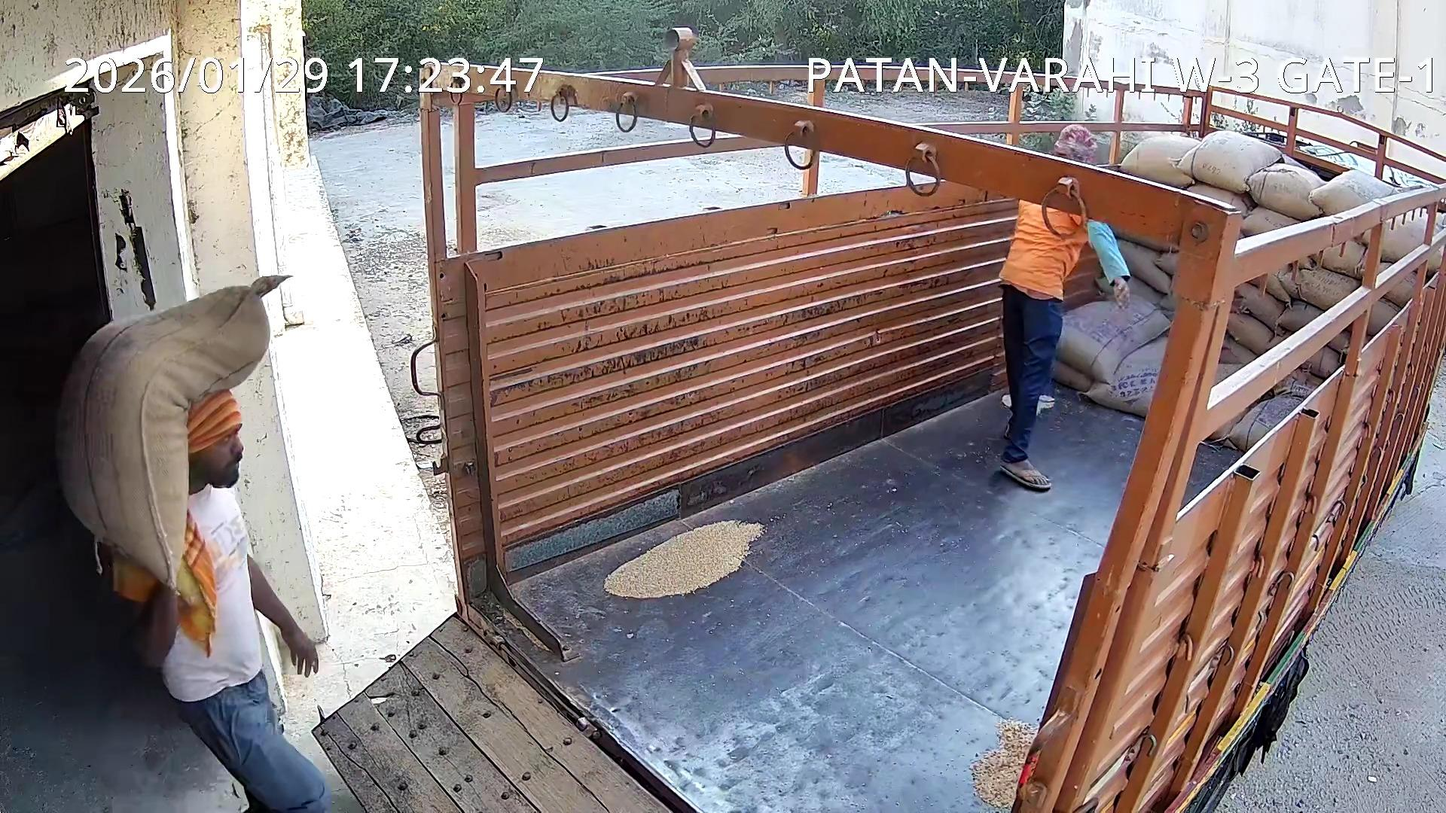Sack: (56, 276, 287, 598)
